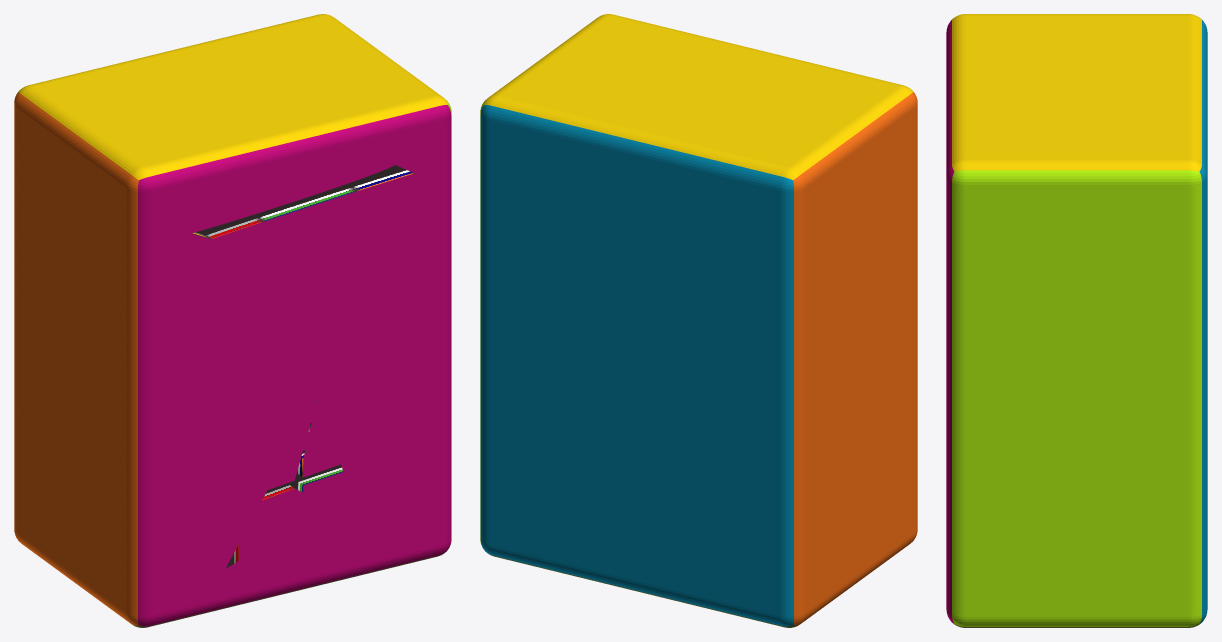
3 renders of one model, left to right at view 1: azimuth 30°, elevation 25°; view 2: azimuth 150°, elevation 25°; view 3: azimuth 270°, elevation 25°, orthographic.
Visible parts, largest first — view 1: 麻将.001; view 2: 麻将.001; view 3: 麻将.001.
Part boxes in pixels (box(x1,y1,x2,y2)): 麻将.001: box(14, 14, 451, 627); 麻将.001: box(480, 14, 917, 627); 麻将.001: box(946, 14, 1207, 627).
Bounding box in the file's own units: 100 × 136 × 69.
